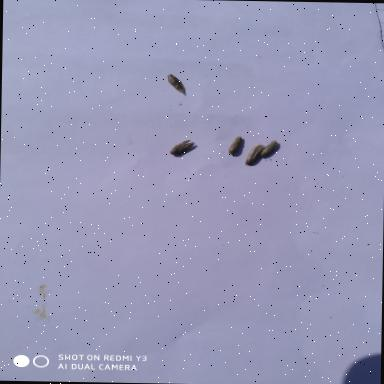pbw: (158, 70, 194, 98), (165, 134, 197, 161), (240, 142, 267, 172), (222, 132, 248, 160), (258, 133, 282, 162)
